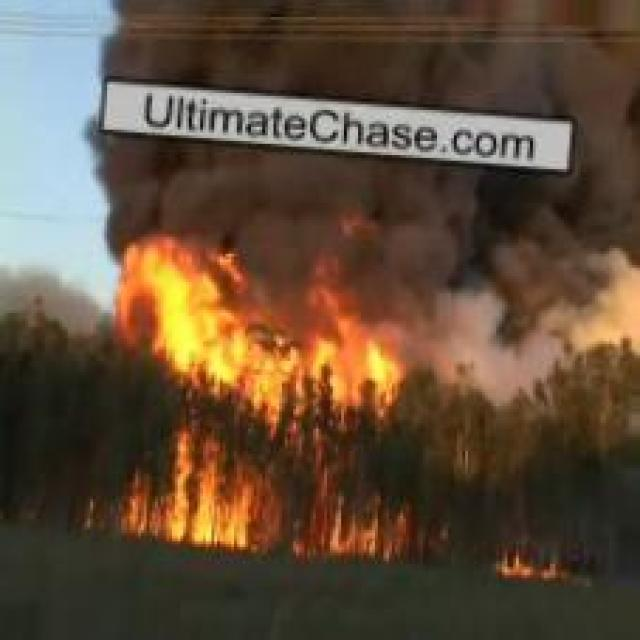fire: (130, 17, 620, 240)
smoke: (127, 281, 383, 549)
